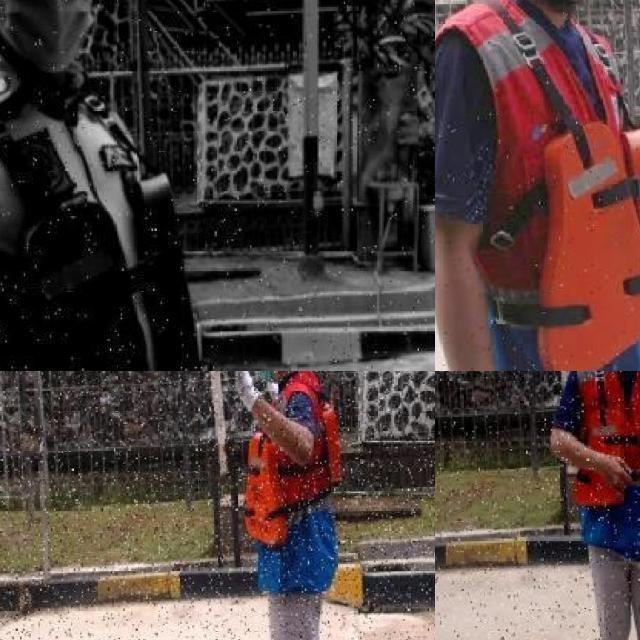apron: (224, 371, 261, 415), (266, 378, 280, 402)
